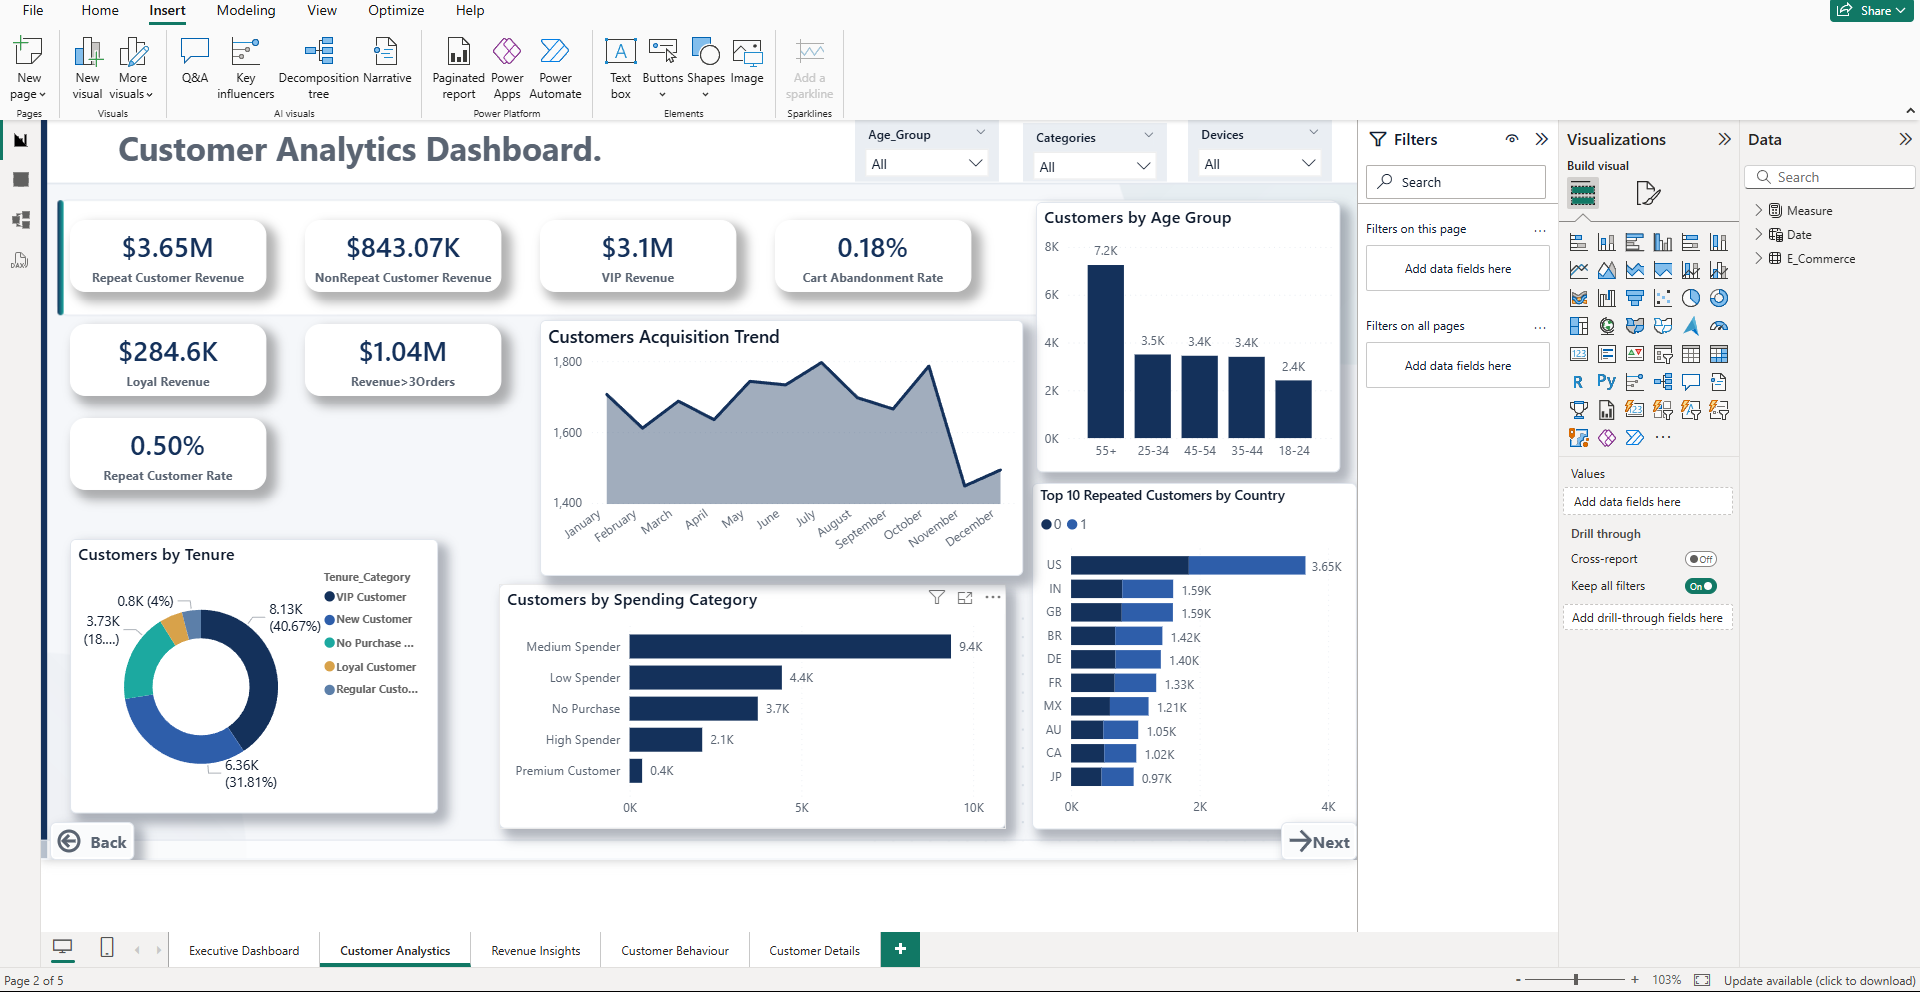

The page's visual inventory and layout, read from the dashboard file:
{"tool":"powerbi","page":{"name":"Customer Analystics","canvas":[1280,720],"ordinal":1},"visuals":[{"type":"card","fields":{"Values":["Measure.Non Repeat Customer Revenue"]},"box":[256.8,97.3,190.6,70],"z":0},{"type":"card","fields":{"Values":["Measure.Repeat Customer Revenue"]},"box":[28.2,97.3,190.6,70],"z":1000},{"type":"card","fields":{"Values":["Measure.Revenue>3Orders"]},"box":[256.8,198.4,190.6,70],"z":2000},{"type":"card","fields":{"Values":["Measure.Cart Abandonment Rate"]},"box":[713.9,97.3,190.6,70],"z":3000},{"type":"card","fields":{"Values":["Measure.Loyal Customer Revenue"]},"box":[28.2,198.4,190.6,70],"z":4000},{"type":"card","fields":{"Values":["Measure.Vip Revenue"]},"box":[485.3,97.3,190.6,70],"z":5000},{"type":"card","fields":{"Values":["Measure.Repeat Customer Rate"]},"box":[28.2,289.8,190.6,70],"z":6000},{"type":"donutChart","title":"Customers by Tenure","fields":{"Category":["E_Commerce.Tenure_Category"],"Y":["CountNonNull(E_Commerce.Customer_Id)"]},"box":[28.2,407.5,357.9,266.5],"z":7000},{"type":"barChart","title":"Customers by Spending Category","fields":{"Y":["CountNonNull(E_Commerce.Customer_Id)"],"Category":["E_Commerce.Spending_Category"]},"box":[445.5,451.3,493.1,238.3],"z":8000},{"type":"clusteredColumnChart","title":"Customers by Age Group","fields":{"Category":["E_Commerce.Age_Group"],"Y":["CountNonNull(E_Commerce.Customer_Id)"]},"box":[967.8,79.8,295.7,262.6],"z":9000},{"type":"barChart","title":"Top 10 Repeated Customers by Country","fields":{"Category":["E_Commerce.Country"],"Series":["E_Commerce.Is_Repeat_Customer"],"Y":["CountNonNull(E_Commerce.Customer_Id)"]},"box":[963.9,353.1,316.1,336.5],"z":10000},{"type":"lineChart","title":"Customers Acquisition Trend","fields":{"Y":["CountNonNull(E_Commerce.Customer_Id)"],"Category":["E_Commerce.Signup_Date.Variation.Date Hierarchy.Year","E_Commerce.Signup_Date.Variation.Date Hierarchy.Month"]},"box":[485.3,194.5,469.8,249],"z":11000},{"type":"textbox","box":[70,0,526.2,64.2],"z":12000},{"type":"slicer","fields":{"Values":["E_Commerce.Age_Group"]},"box":[791.7,0,140.1,60.3],"z":14000},{"type":"slicer","fields":{"Values":["E_Commerce.Spending_Category"]},"box":[955.1,2.9,140.1,57.4],"z":15000},{"type":"slicer","title":"Devices","fields":{"Values":["E_Commerce.Preferred_Device_Ord"]},"box":[1115.6,0,140.1,60.3],"z":16000},{"type":"actionButton","box":[8.8,682.8,81.7,37],"z":16002},{"type":"actionButton","box":[1206.1,682.8,73.9,37],"z":16003}]}

Visuals, with their boxes on the page's 1280x720 design canvas (x1, y1, x2, y2). These are canvas units, not pixel positions in the 1920x992 screenshot, which may show the page scaled, cropped or inside an application window:
card - Measure.Non Repeat Customer Revenue: x1=257 y1=97 x2=447 y2=167
card - Measure.Repeat Customer Revenue: x1=28 y1=97 x2=219 y2=167
card - Measure.Revenue>3Orders: x1=257 y1=198 x2=447 y2=268
card - Measure.Cart Abandonment Rate: x1=714 y1=97 x2=904 y2=167
card - Measure.Loyal Customer Revenue: x1=28 y1=198 x2=219 y2=268
card - Measure.Vip Revenue: x1=485 y1=97 x2=676 y2=167
card - Measure.Repeat Customer Rate: x1=28 y1=290 x2=219 y2=360
"Customers by Tenure" donutChart: x1=28 y1=408 x2=386 y2=674
"Customers by Spending Category" barChart: x1=446 y1=451 x2=939 y2=690
"Customers by Age Group" clusteredColumnChart: x1=968 y1=80 x2=1264 y2=342
"Top 10 Repeated Customers by Country" barChart: x1=964 y1=353 x2=1280 y2=690
"Customers Acquisition Trend" lineChart: x1=485 y1=194 x2=955 y2=444
textbox: x1=70 y1=0 x2=596 y2=64
slicer - E_Commerce.Age_Group: x1=792 y1=0 x2=932 y2=60
slicer - E_Commerce.Spending_Category: x1=955 y1=3 x2=1095 y2=60
"Devices" slicer: x1=1116 y1=0 x2=1256 y2=60
actionButton: x1=9 y1=683 x2=90 y2=720
actionButton: x1=1206 y1=683 x2=1280 y2=720
